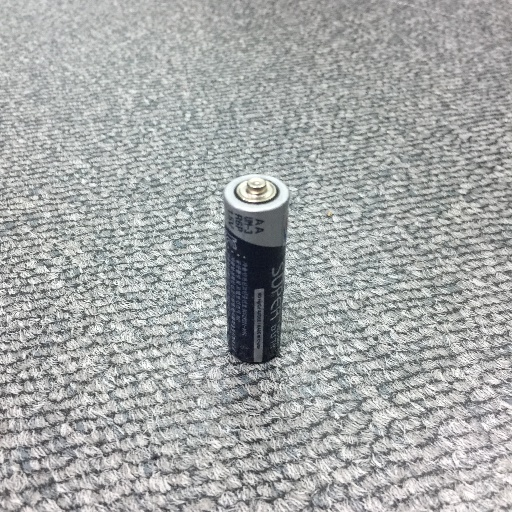Battery_0: (219, 167, 290, 370)
